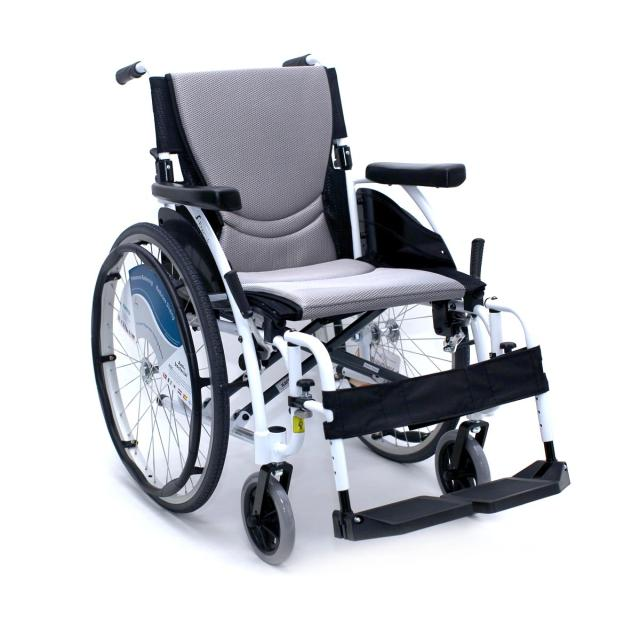wheelchairs: (81, 53, 588, 574)
